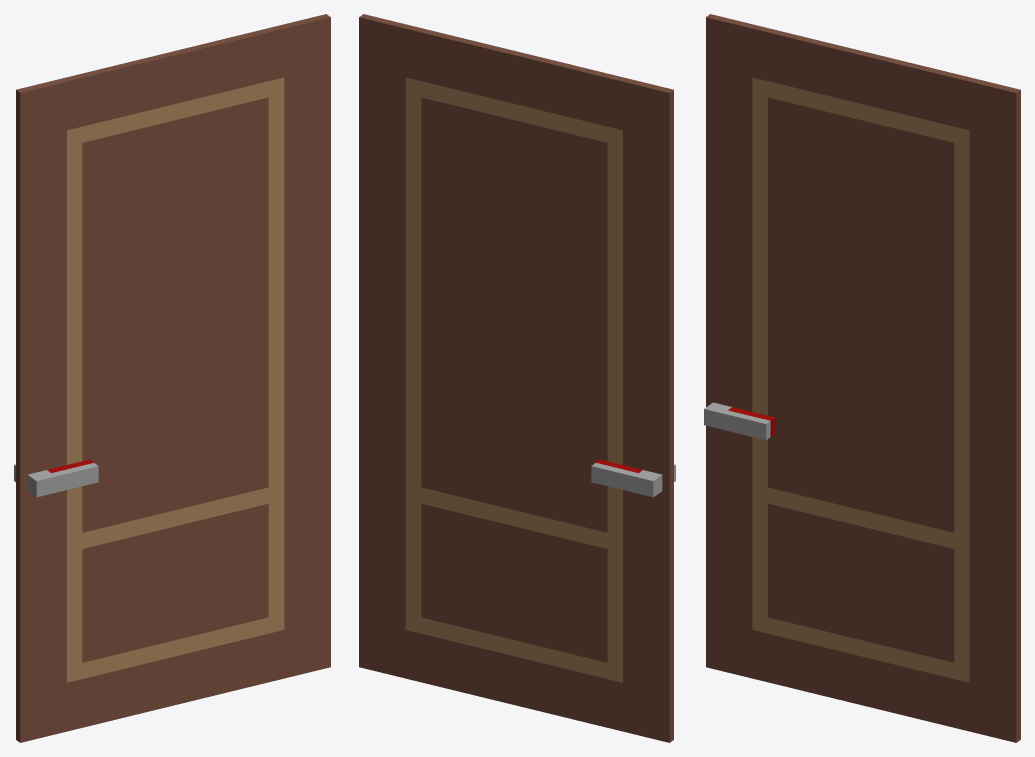
Rendered from Door1b.fbx.
The picture shows the model from 3 angles, left to right: view 1: azimuth 30°, elevation 25°; view 2: azimuth 150°, elevation 25°; view 3: azimuth 330°, elevation 25°; orthographic projection.
Visible parts, largest first — view 1: Plane, Cube.003; view 2: Plane, Cube; view 3: Plane, Cube.003.
Part boxes in pixels (<box>): Plane: <box>16,14,330,742</box>; Cube.003: <box>27,463,98,497</box>; Plane: <box>359,14,673,742</box>; Cube: <box>591,463,662,497</box>; Plane: <box>706,14,1020,742</box>; Cube.003: <box>704,402,770,440</box>.
Bounding box in the file's own units: 200 × 400 × 25.
